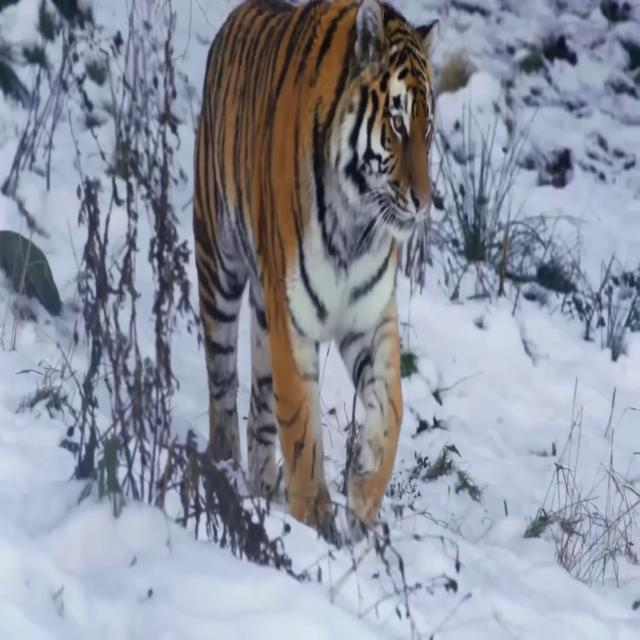tiger: (193, 0, 441, 545)
